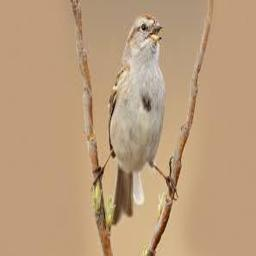Sparrow: (94, 15, 179, 225)
